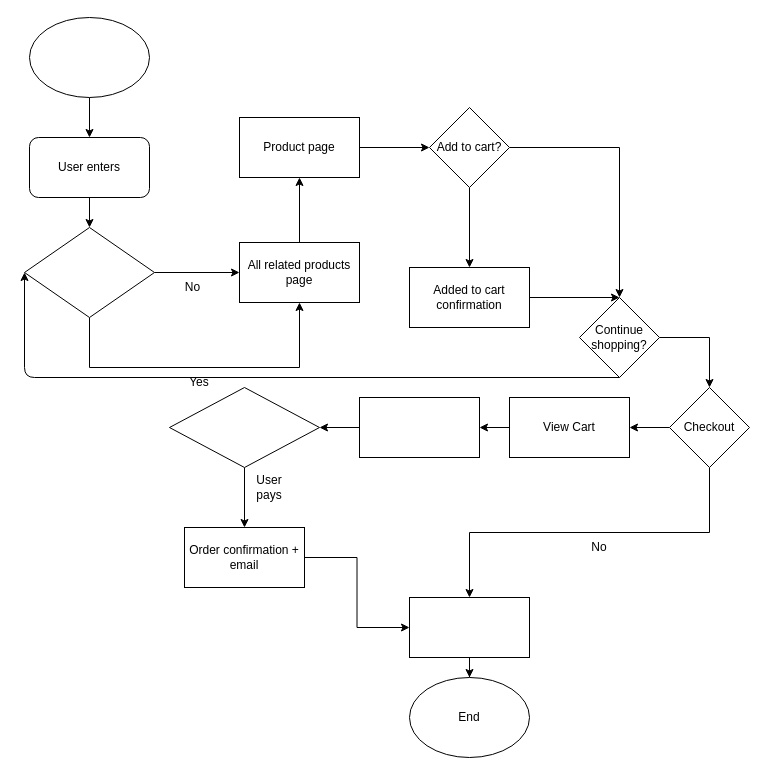
The diagram is 767 pixels wide and 775 high, and some of its shapes have lost their labels. Here are the shapes that lost their labels. From the top down, the centre of each, then its label:
[89,57]: Start
[89,272]: Search?
[244,427]: Ask for user payment info
[419,427]: View Payment
[469,627]: Leaves the website
